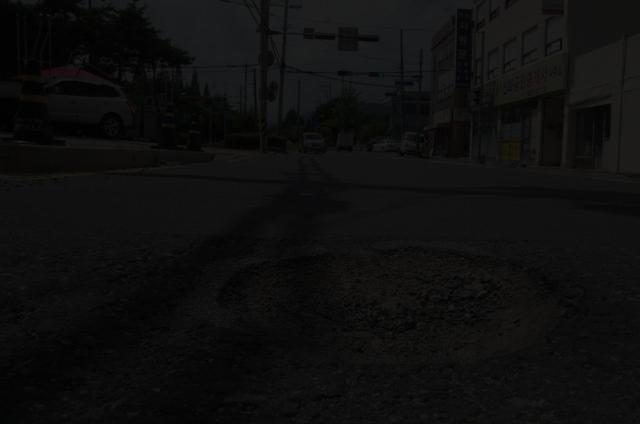pothole: (219, 182, 576, 378)
